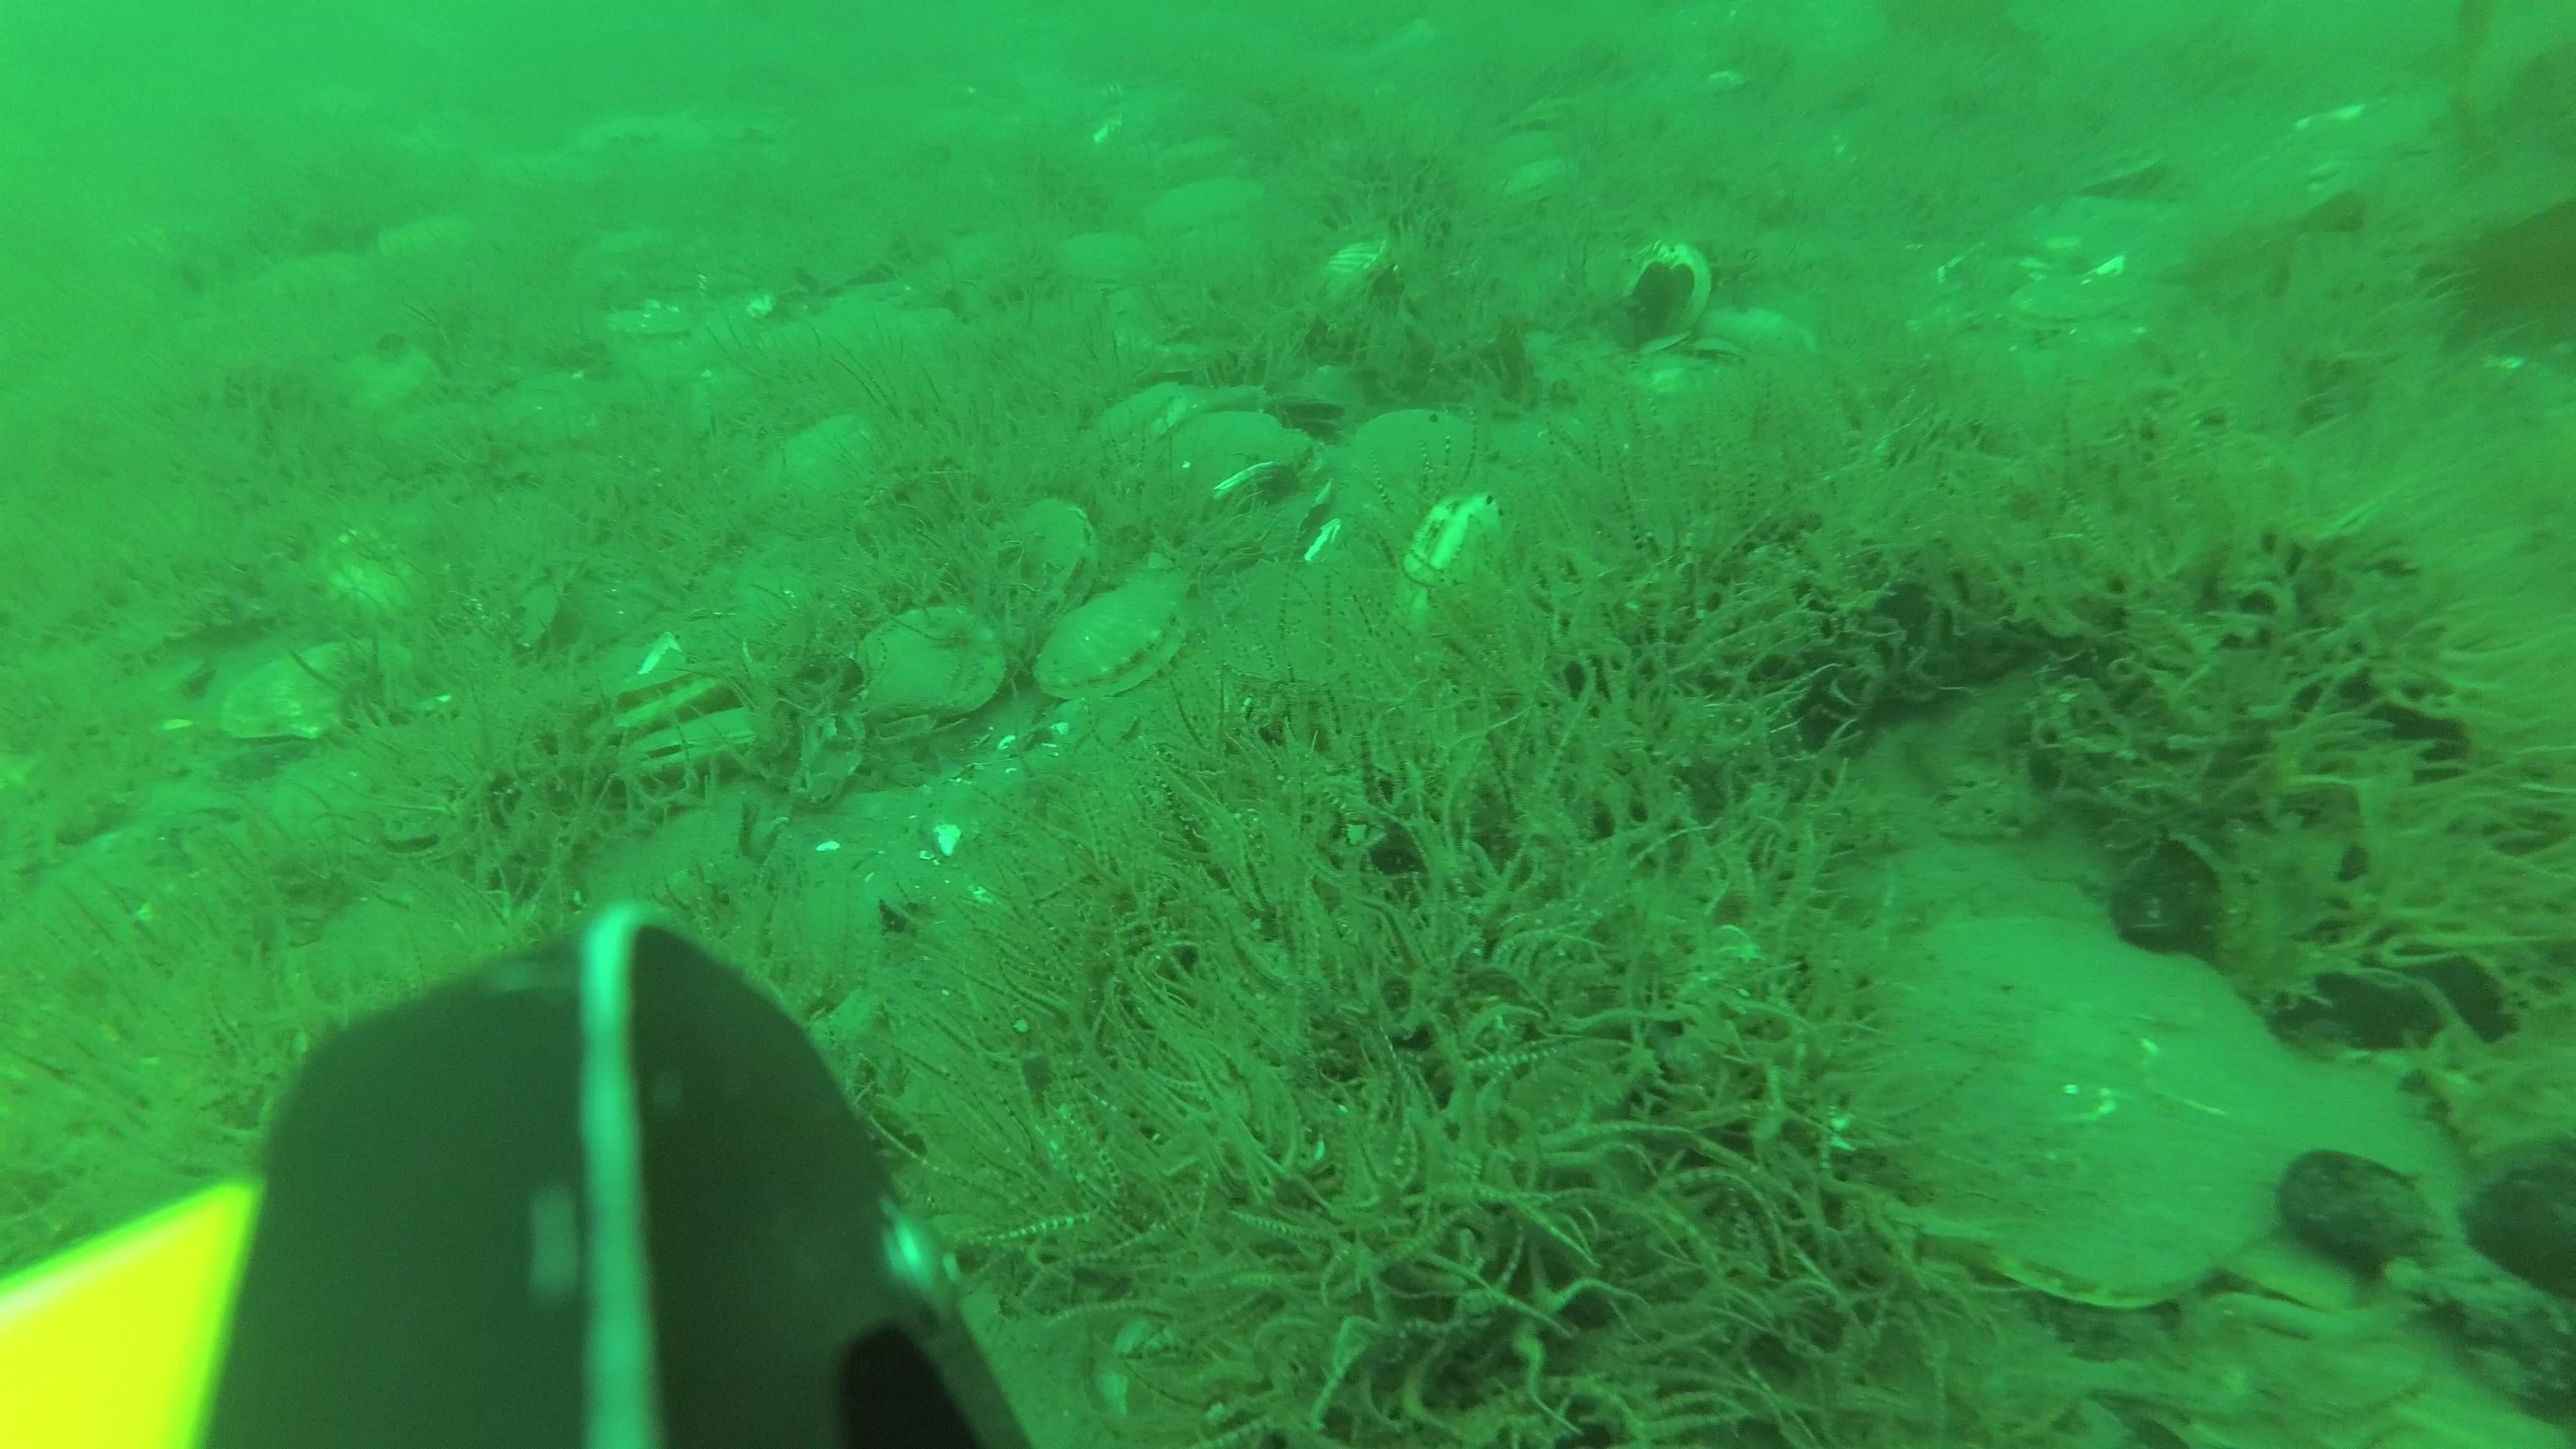scallop: (1856, 908, 2296, 1311), (2219, 1067, 2461, 1284), (2229, 1233, 2440, 1410), (313, 883, 497, 1021), (225, 626, 409, 757), (1210, 554, 1385, 688), (755, 421, 899, 540), (1047, 577, 1184, 697), (1338, 400, 1484, 510), (855, 614, 1001, 713), (1164, 410, 1300, 515), (989, 502, 1115, 614), (616, 711, 770, 796), (2006, 258, 2153, 333), (591, 674, 732, 743), (1083, 377, 1192, 455), (1060, 225, 1168, 295), (1159, 170, 1260, 244), (1306, 228, 1392, 308)
